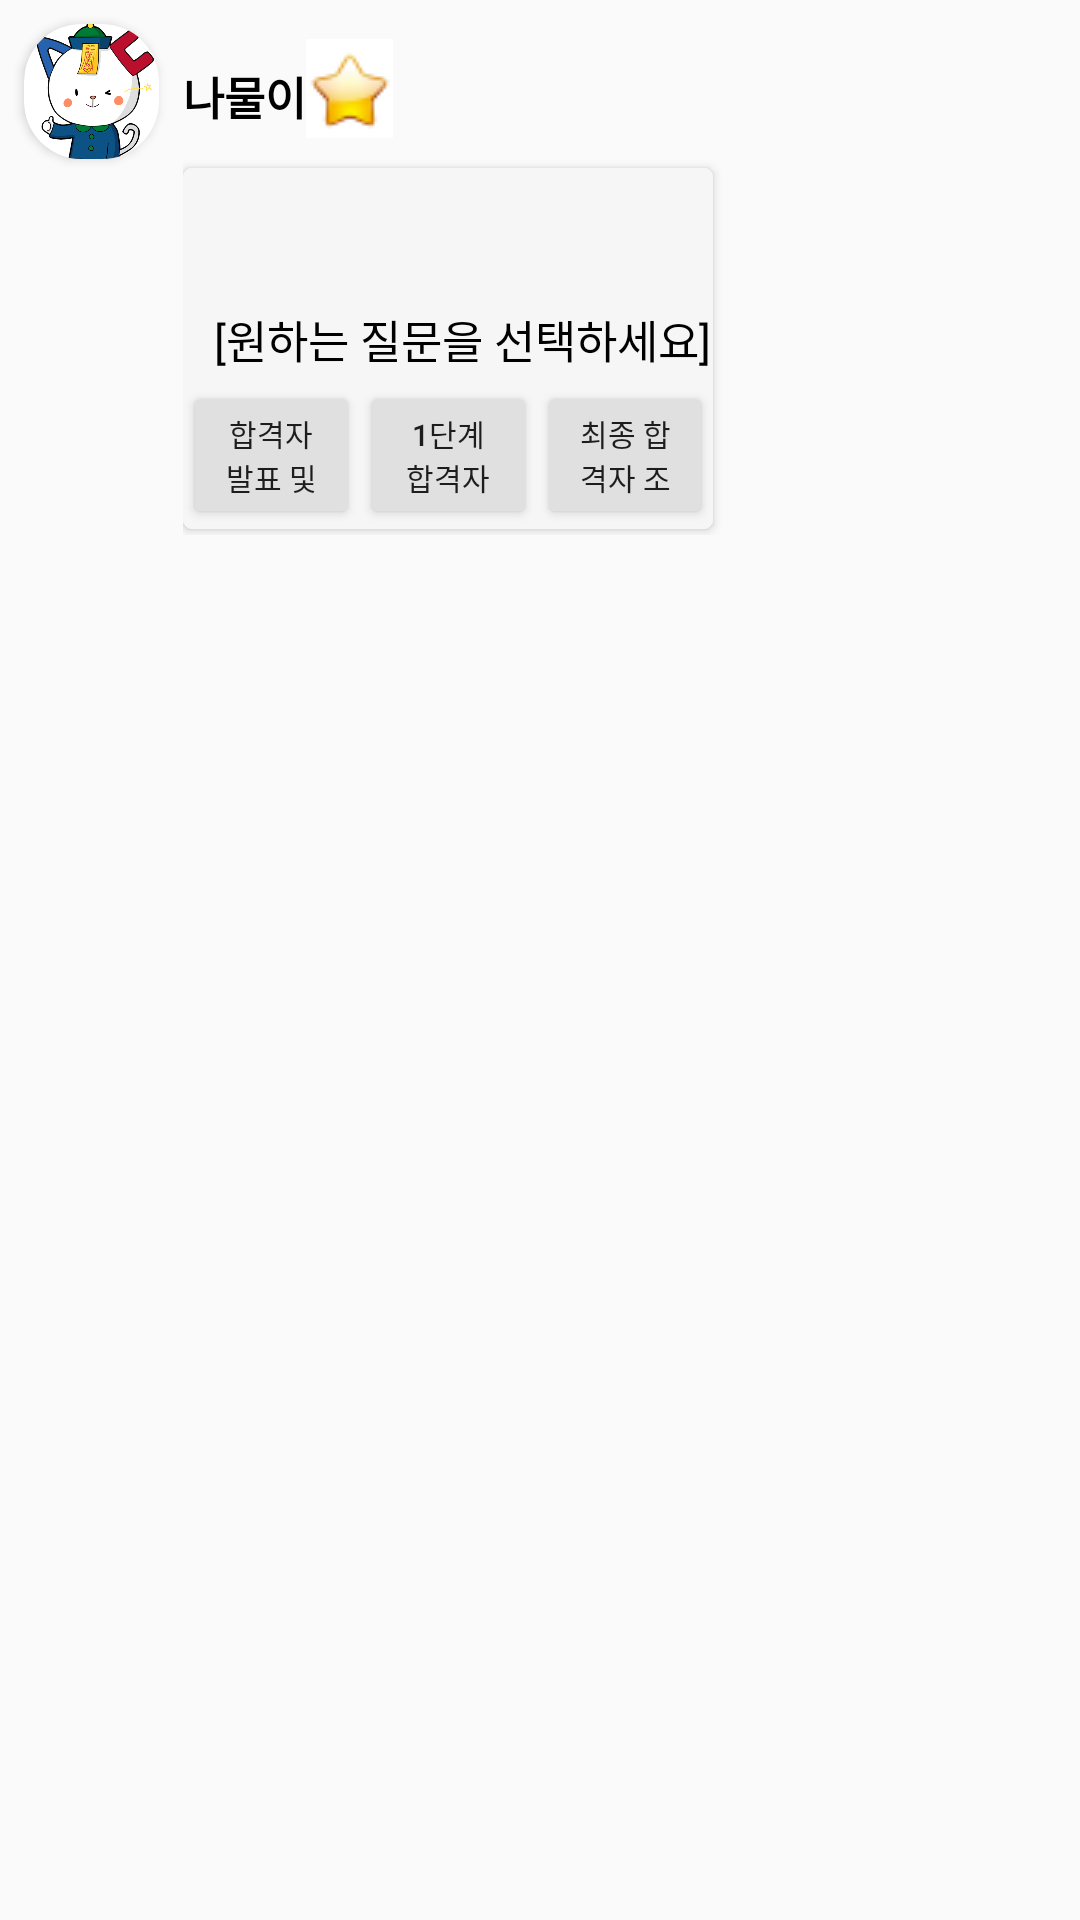

Icons on this 1080x1920 Android screen, each with the point to tap as [x,y]:
staron: [350,90]
